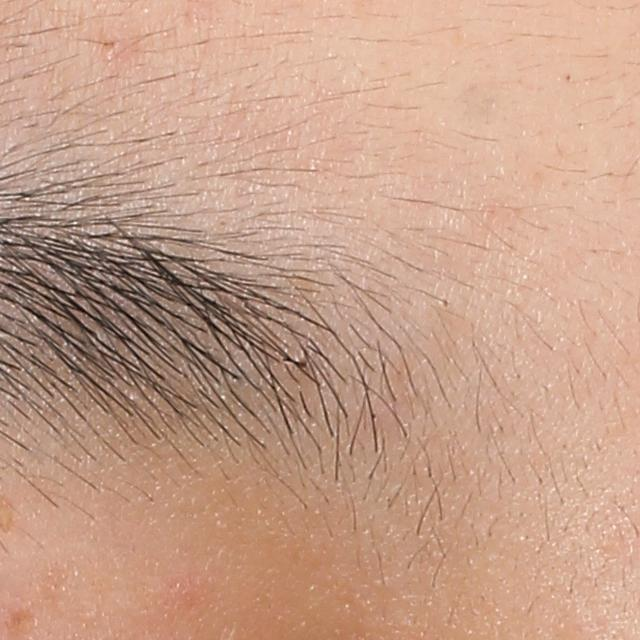comedo: (438, 296, 457, 315)
melasma: (2, 606, 42, 638)
